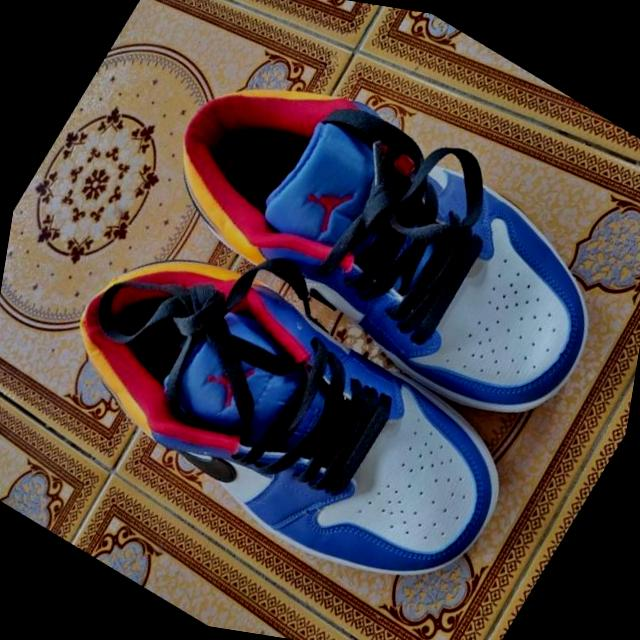nike_fake_jordan: (9, 200, 558, 638), (107, 17, 640, 460)
